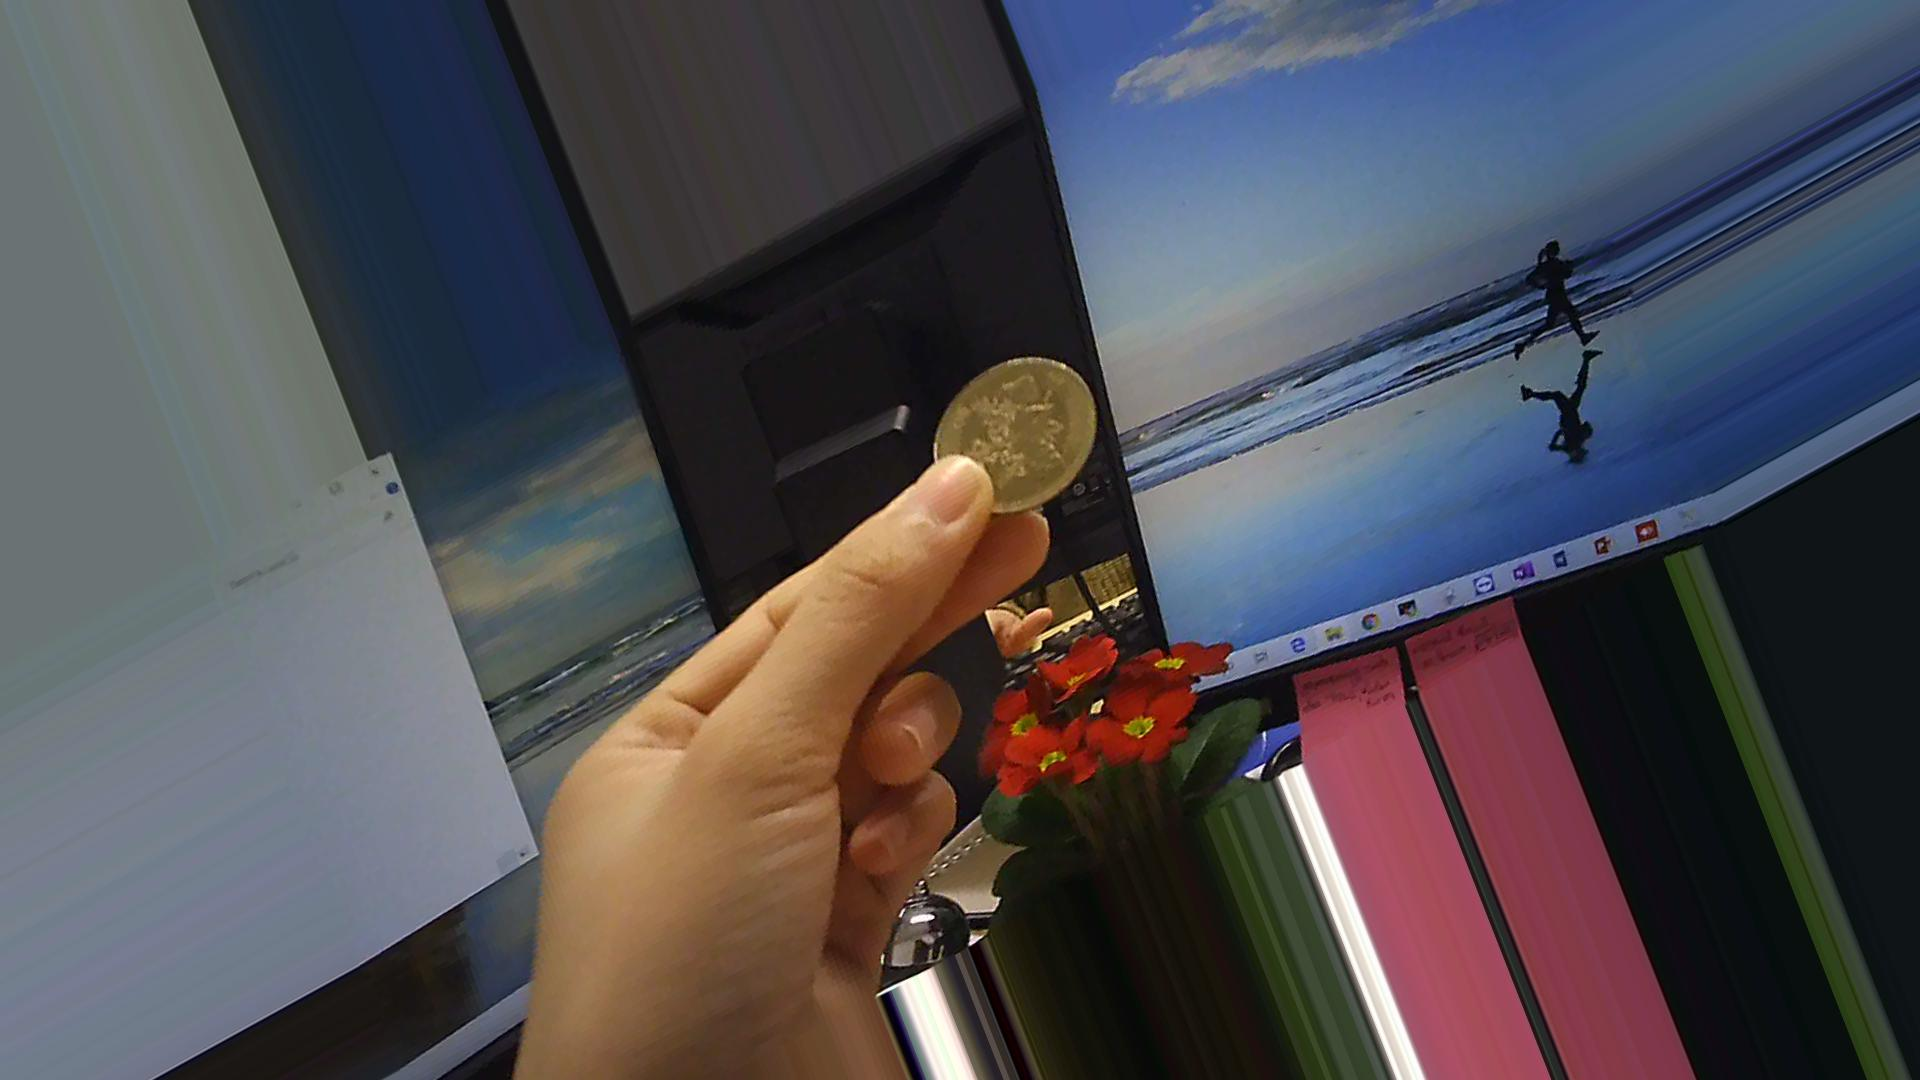500 Yen: (938, 351, 1100, 516)
